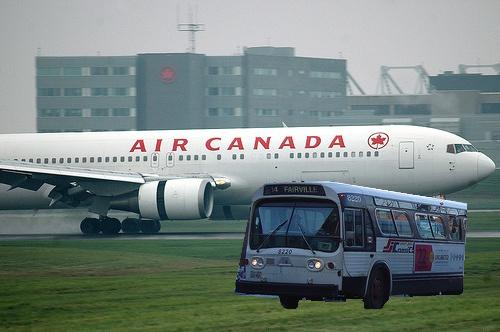tampered: (234, 182, 467, 309)
